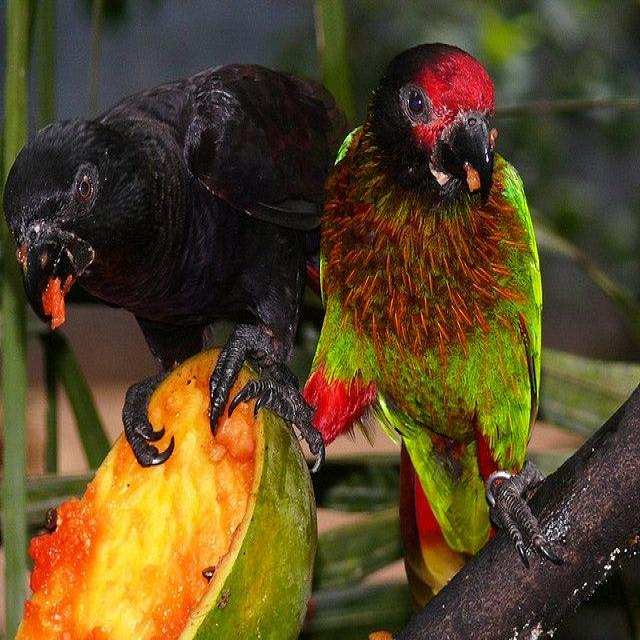Nuri Hitam: (5, 49, 325, 447)
